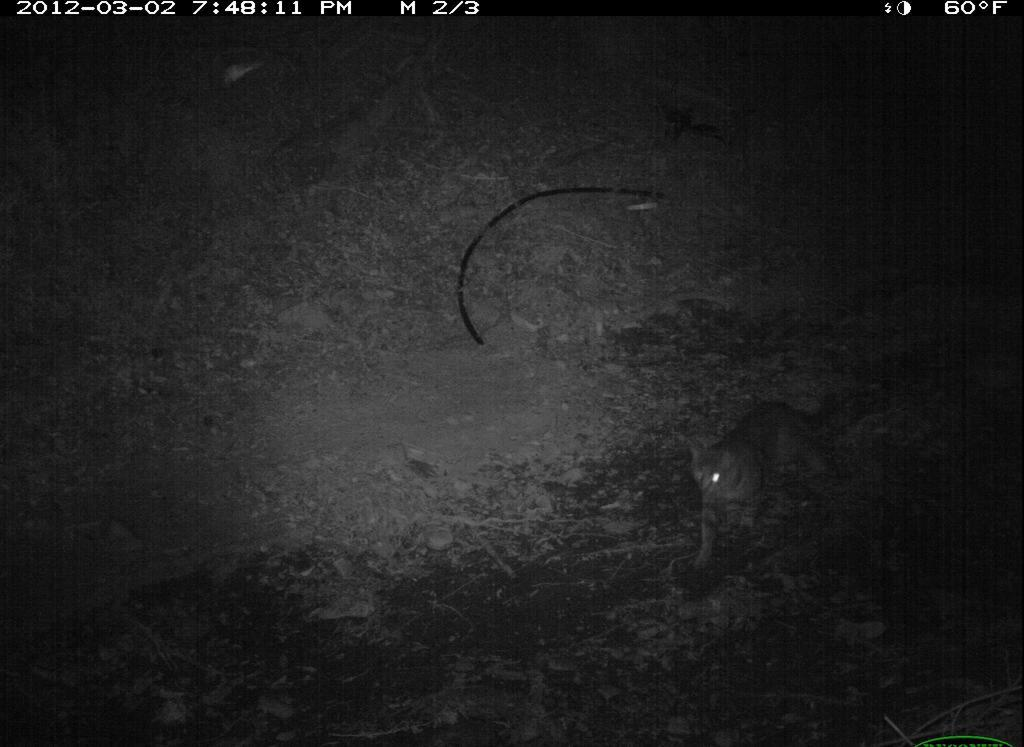cat: (679, 393, 841, 569)
